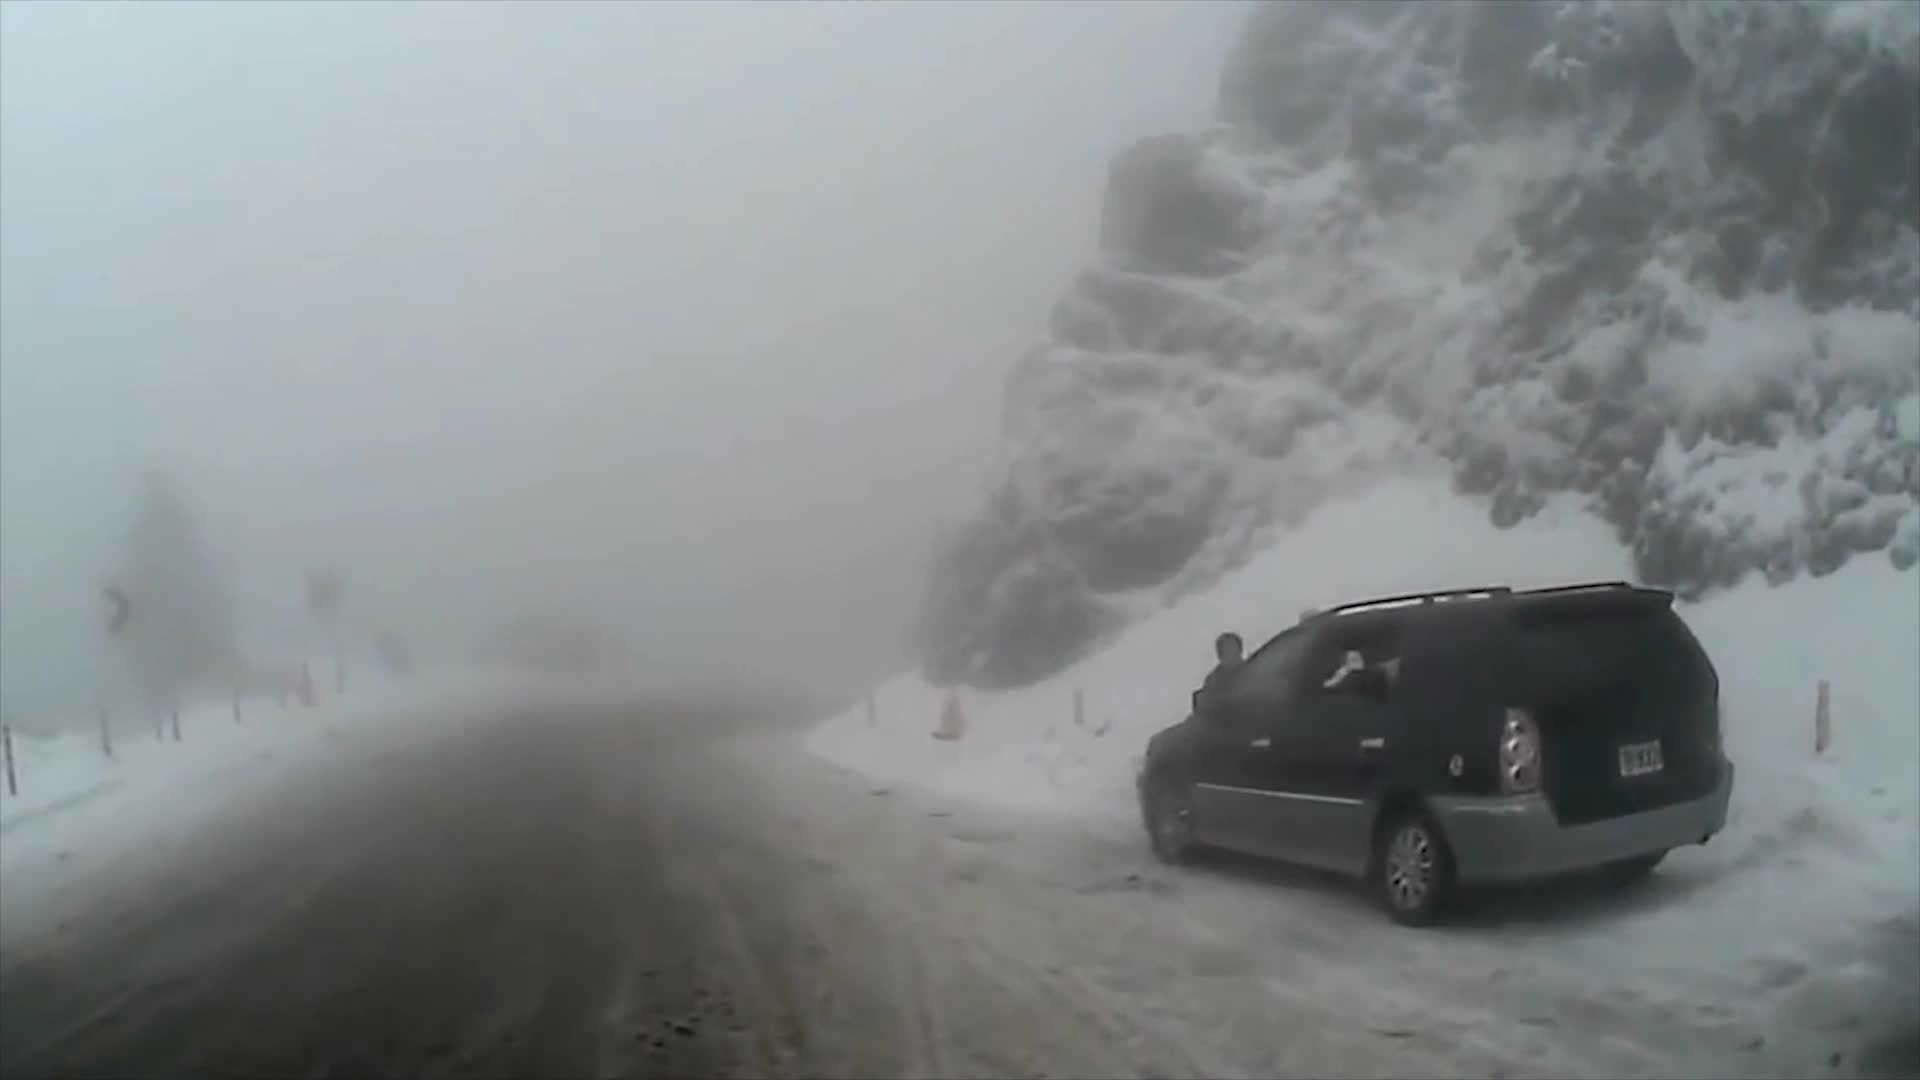vehicle: (1133, 579, 1730, 928)
